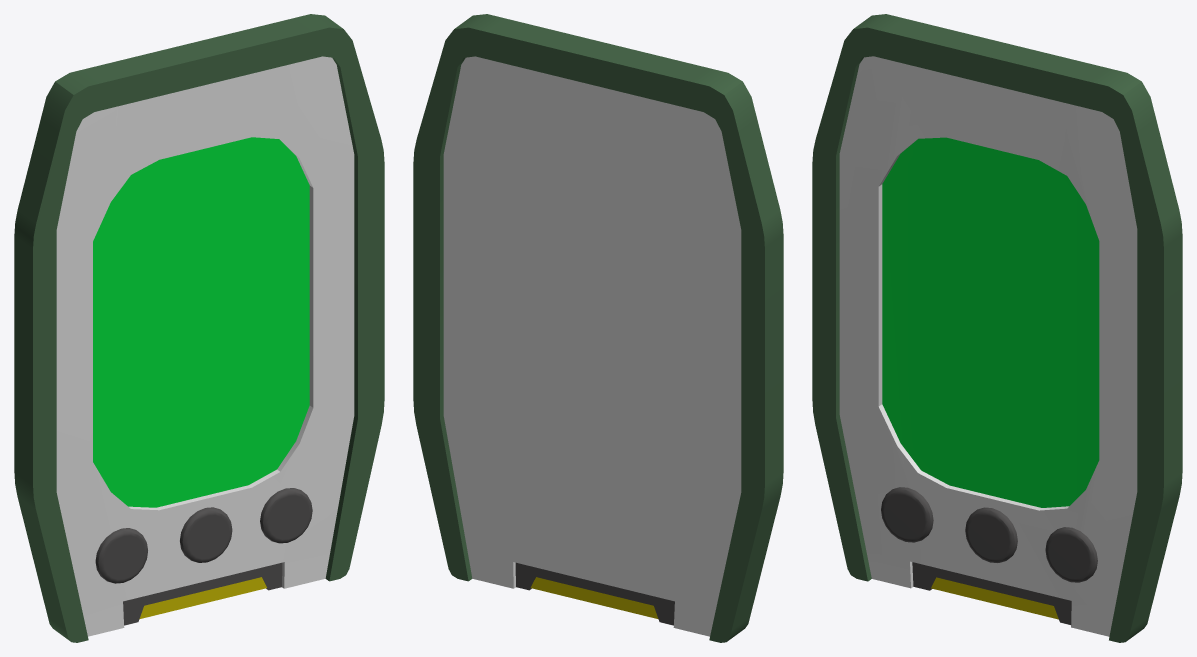
Rendered from Keycard_B.fbx.
3 views of the same model, side by side, from view 1: azimuth 30°, elevation 25°; view 2: azimuth 150°, elevation 25°; view 3: azimuth 330°, elevation 25° (orthographic).
Visible parts, largest first — view 1: Keycard_B, pCylinder39, pCylinder38, pCylinder37; view 2: Keycard_B; view 3: Keycard_B, pCylinder37, pCylinder39, pCylinder38.
Part boxes in pixels (x1=…): Keycard_B: x1=14, y1=14, x2=384, y2=642; pCylinder39: x1=180, y1=507, x2=232, y2=562; pCylinder38: x1=260, y1=488, x2=312, y2=543; pCylinder37: x1=95, y1=528, x2=147, y2=583; Keycard_B: x1=413, y1=14, x2=783, y2=642; Keycard_B: x1=812, y1=14, x2=1182, y2=642; pCylinder37: x1=881, y1=487, x2=933, y2=542; pCylinder39: x1=965, y1=507, x2=1017, y2=562; pCylinder38: x1=1045, y1=527, x2=1097, y2=582.
Size of the model in its own units: 0.4292 by 0.0394 by 0.6462.
